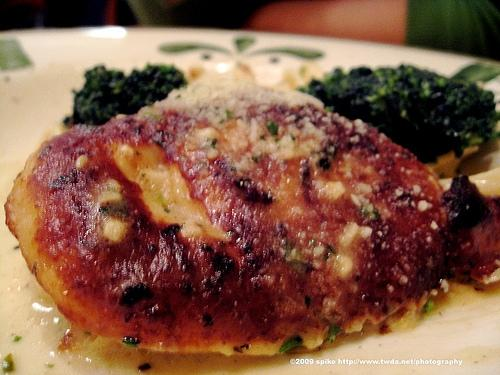broccoli: (296, 62, 495, 167), (62, 62, 189, 129)
